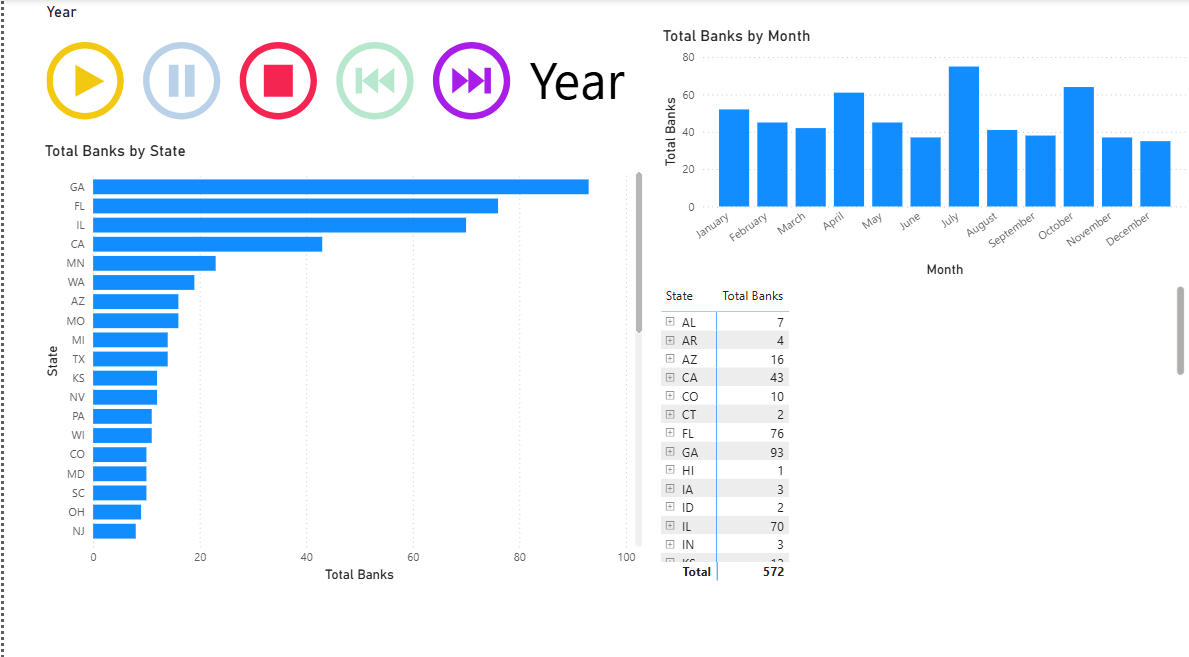

What the dashboard file says about the page in this screenshot:
{"tool":"powerbi","page":{"name":"Over view","canvas":[1280,720],"ordinal":0},"visuals":[{"type":"barChart","fields":{"Category":["Failed Banks.State "],"Y":["CountNonNull(Failed Banks.Bank Name )"]},"box":[116.6,268.8,498.7,429.1],"z":0},{"type":"columnChart","fields":{"Category":["Calender.Month"],"Y":["CountNonNull(Failed Banks.Bank Name )"]},"box":[718.9,76.1,516.5,340],"z":1000},{"type":"pivotTable","fields":{"Values":["CountNonNull(Failed Banks.Bank Name )"],"Rows":["Failed Banks.State ","Failed Banks.City "]},"box":[686.9,438.6,549,281.4],"z":2000},{"type":"PBI_CV_16948668_E17D_454B_8664_2F2C470EA8C1_DEV","fields":{"category":["Calender.Year"]},"box":[50.2,29.1,498.7,192.7],"z":3000}]}

Visuals, with their boxes in screenshot pixels (x1, y1, x2, y2), scaled from the page's 1280x720 canvas onto the 1189x657 screenshot:
barChart - Failed Banks.State  x CountNonNull(Failed Banks.Bank Name ): [108,245,572,637]
columnChart - Calender.Month x CountNonNull(Failed Banks.Bank Name ): [668,69,1148,380]
pivotTable - CountNonNull(Failed Banks.Bank Name ) x Failed Banks.State : [638,400,1148,656]
PBI_CV_16948668_E17D_454B_8664_2F2C470EA8C1_DEV - Calender.Year: [47,27,510,202]
